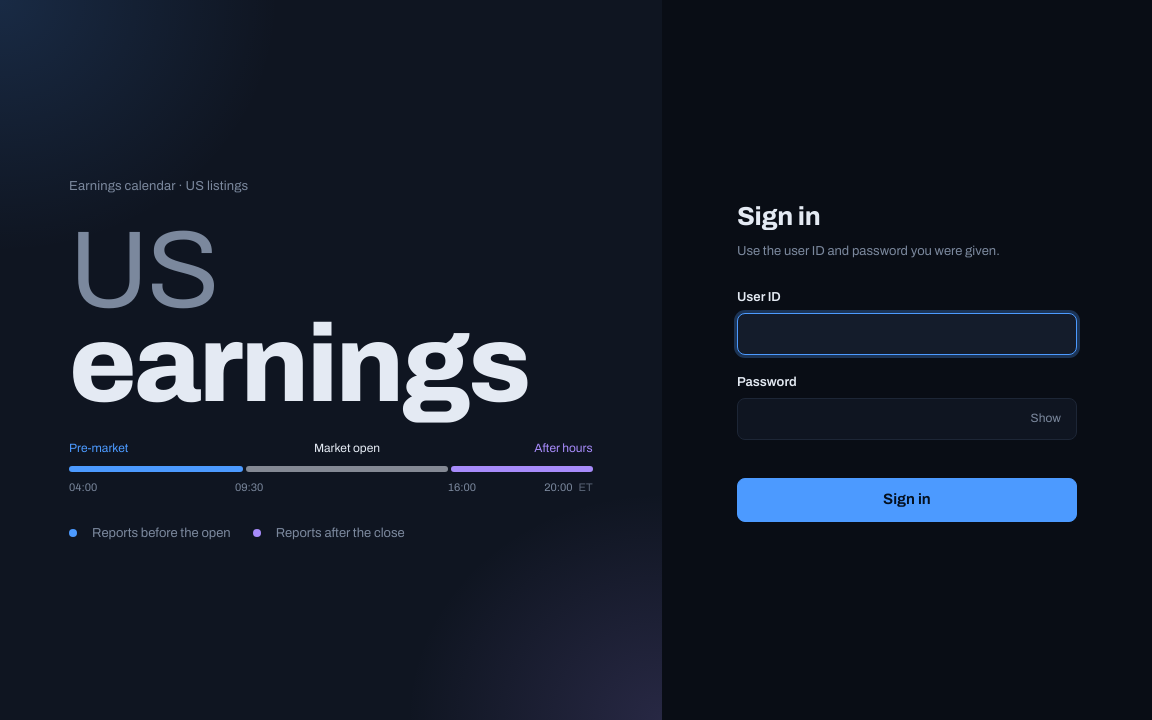
Scenario: shows the server error inline and clears the password
The width and height of the screenshot is (1152, 720).
Step 1. Type "1A" into the field labelled "User ID" → x=907, y=334, box [737,313,1077,355]
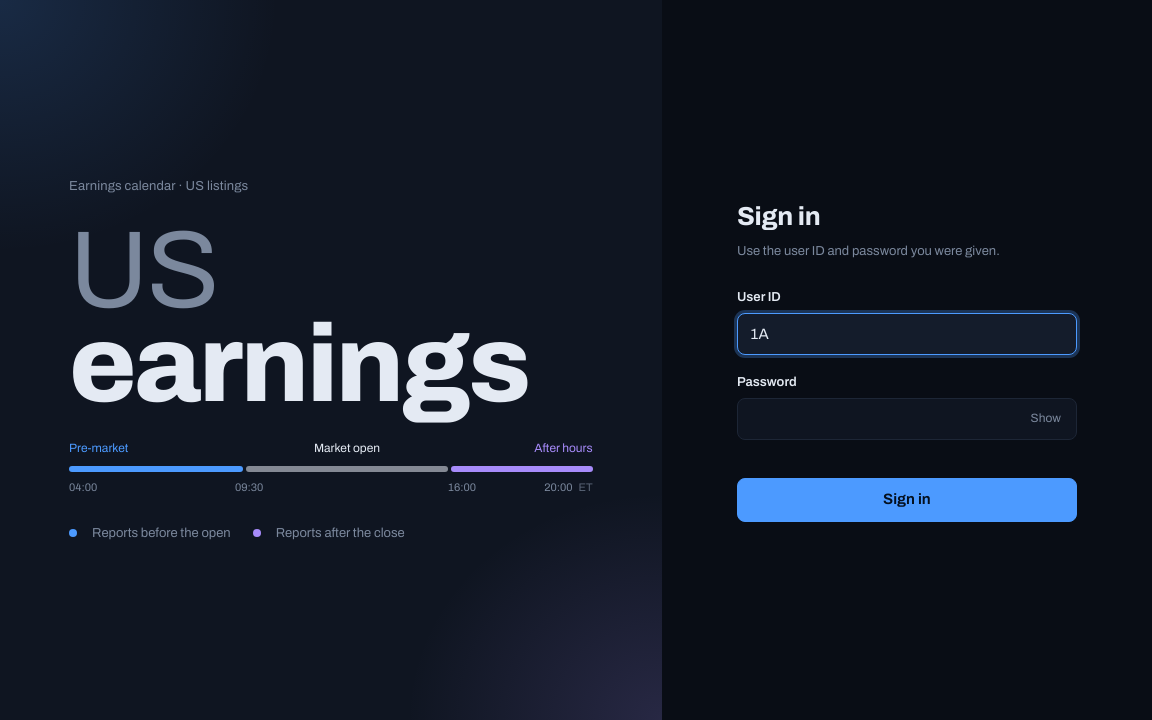
Step 2. Type "nope" into the password field labelled "Password" → x=907, y=419, box [737,398,1077,440]
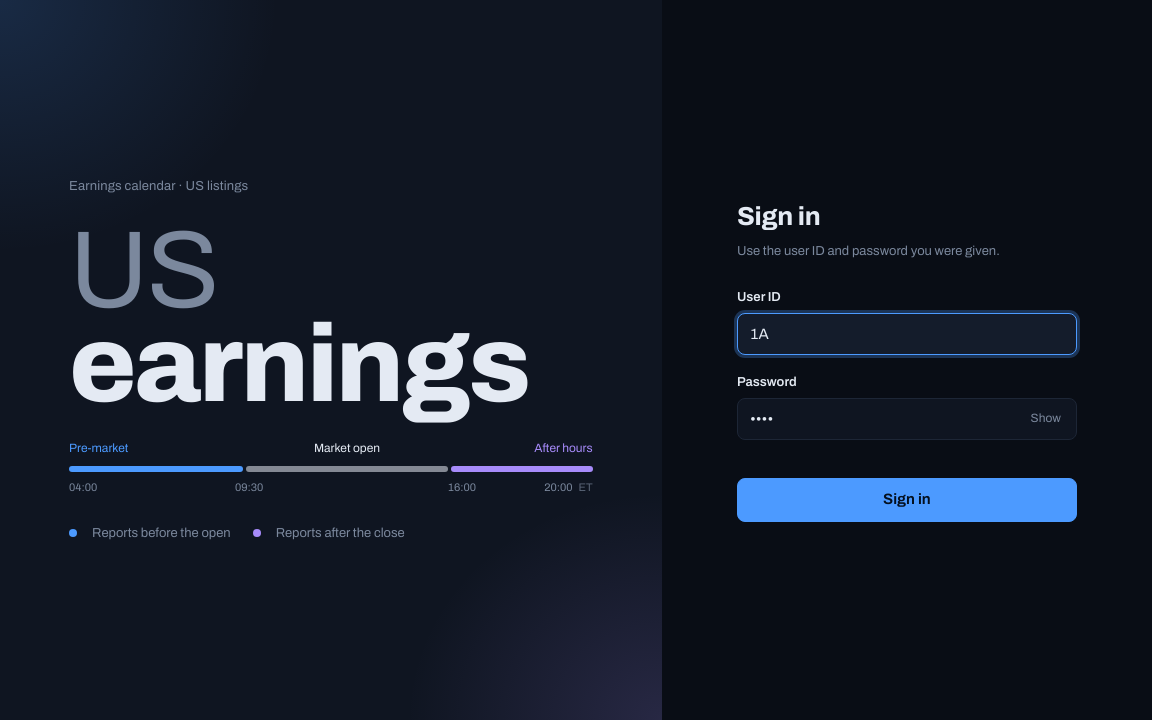
Step 3. Click the button "Sign in" → x=907, y=500, box [737,478,1077,522]
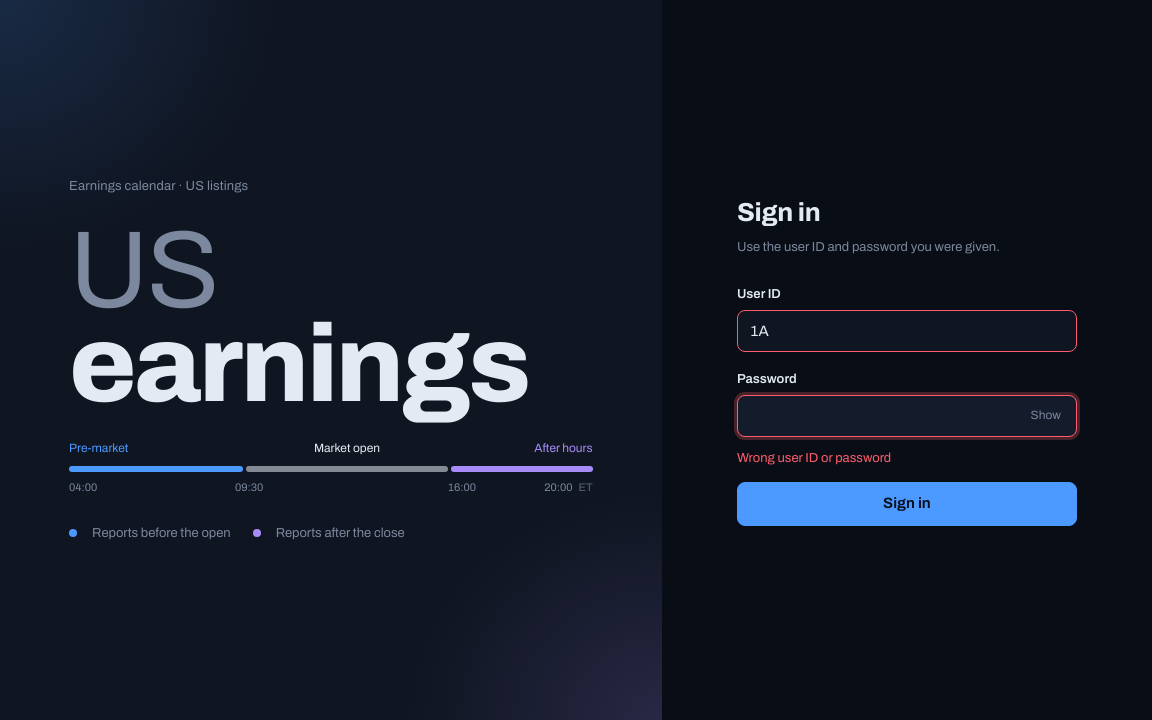
Result: the message reads "Wrong user ID or password" at [737,451,891,465]
Result: the password field labelled "Password" is empty at [737,395,1077,437]
